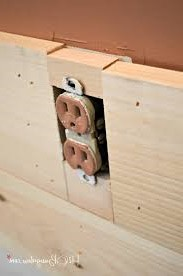outlet: (57, 98, 85, 130), (68, 142, 89, 171)
